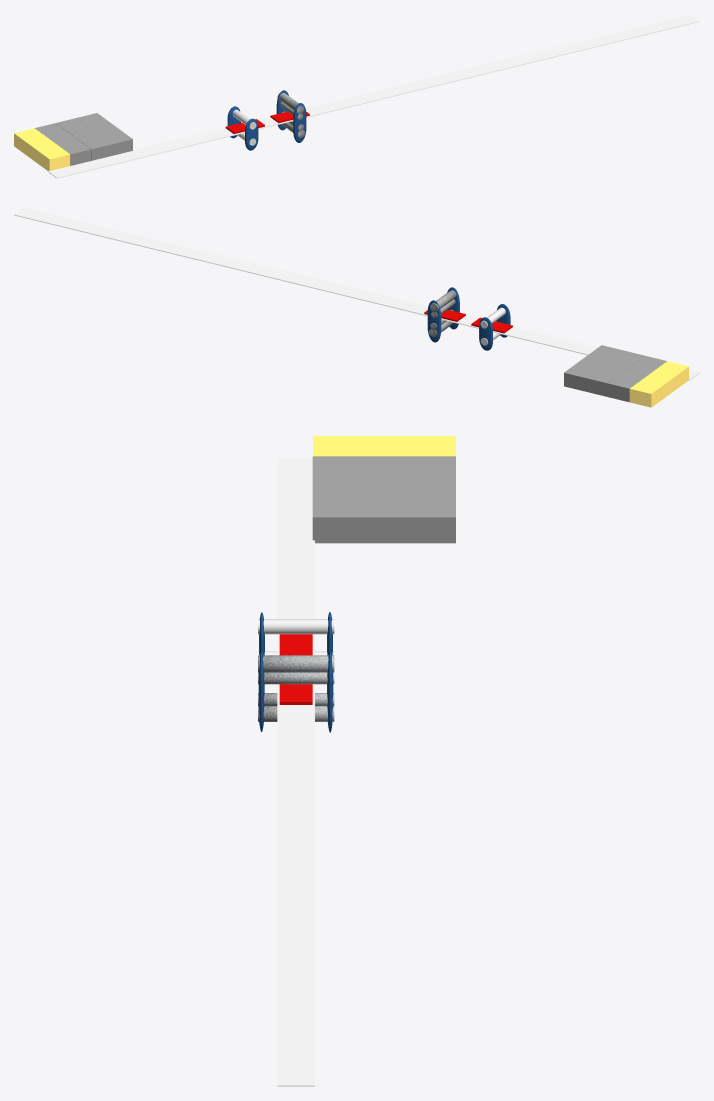
3 renders of one model, top to bottom at view 1: azimuth 30°, elevation 25°; view 2: azimuth 150°, elevation 25°; view 3: azimuth 270°, elevation 25°, orthographic. The views are drawn at different scales.
Visible parts, largest first — view 1: Box, Box_1, Furnace2, Furnace3, Furnace1, R2R, R1L; view 2: Box, Box_1, Furnace2, Furnace3, Furnace1, R2L, R1R; view 3: Box, Furnace1, Furnace3, Furnace2, Box_1, R2UpB, Cylinder.
Part boxes in pixels (x1=…): Box: x1=47, y1=14, x2=699, y2=178; Box_1: x1=14, y1=128, x2=70, y2=170; Furnace2: x1=56, y1=118, x2=112, y2=160; Furnace3: x1=35, y1=123, x2=91, y2=165; Furnace1: x1=77, y1=113, x2=132, y2=155; R2R: x1=293, y1=103, x2=306, y2=142; R1L: x1=245, y1=118, x2=258, y2=150; Box: x1=14, y1=207, x2=699, y2=380; Box_1: x1=629, y1=361, x2=688, y2=407; Furnace2: x1=585, y1=350, x2=644, y2=396; Furnace3: x1=607, y1=356, x2=666, y2=402; Furnace1: x1=564, y1=345, x2=622, y2=391; R2L: x1=427, y1=300, x2=441, y2=342; R1R: x1=479, y1=317, x2=492, y2=350; Box: x1=277, y1=457, x2=314, y2=1086; Furnace1: x1=312, y1=497, x2=455, y2=543; Furnace3: x1=312, y1=456, x2=455, y2=476; Furnace2: x1=312, y1=476, x2=455, y2=496; Box_1: x1=313, y1=436, x2=455, y2=456; R2UpB: x1=258, y1=655, x2=334, y2=672; Cylinder: x1=258, y1=619, x2=334, y2=634.
Size of the model in its own units: 15.52 by 0.9215 by 2.07.
Materials: 21 (4 with a texture image).
